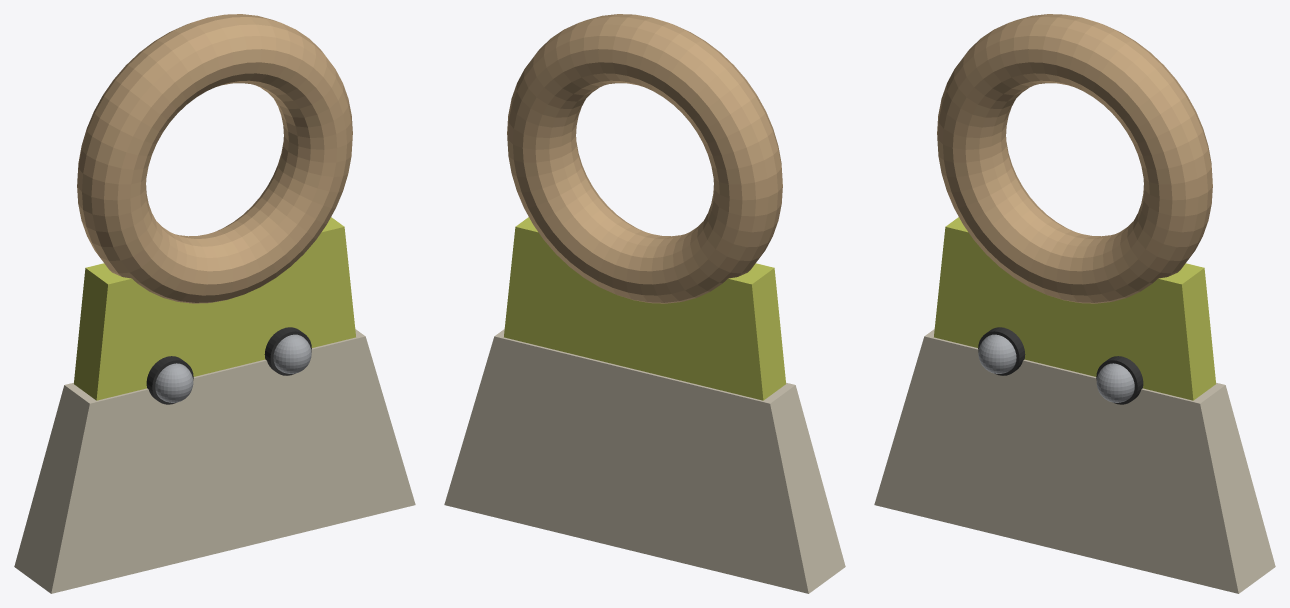
File: mini_sweeper.glb
3 renders of one model, left to right at view 1: azimuth 30°, elevation 25°; view 2: azimuth 150°, elevation 25°; view 3: azimuth 330°, elevation 25°, orthographic.
Visible parts, largest first — view 1: geometry_0; view 2: geometry_0; view 3: geometry_0.
Boxes of the visible parts, bbox=[...] form: geometry_0: bbox=[14, 14, 415, 593]; geometry_0: bbox=[444, 14, 845, 593]; geometry_0: bbox=[874, 14, 1275, 593].
Bounding box in the file's own units: 0.1063 × 0.1436 × 0.0233.
